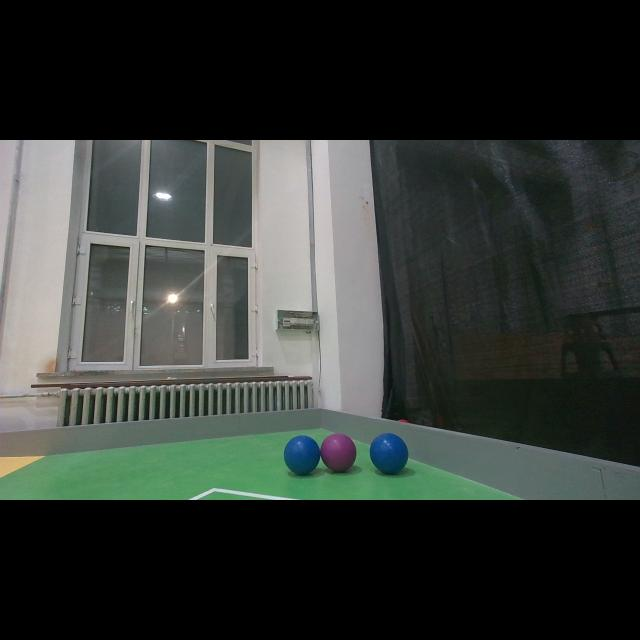B: (369, 434, 408, 474), (284, 436, 320, 474)
P: (320, 433, 356, 472)
